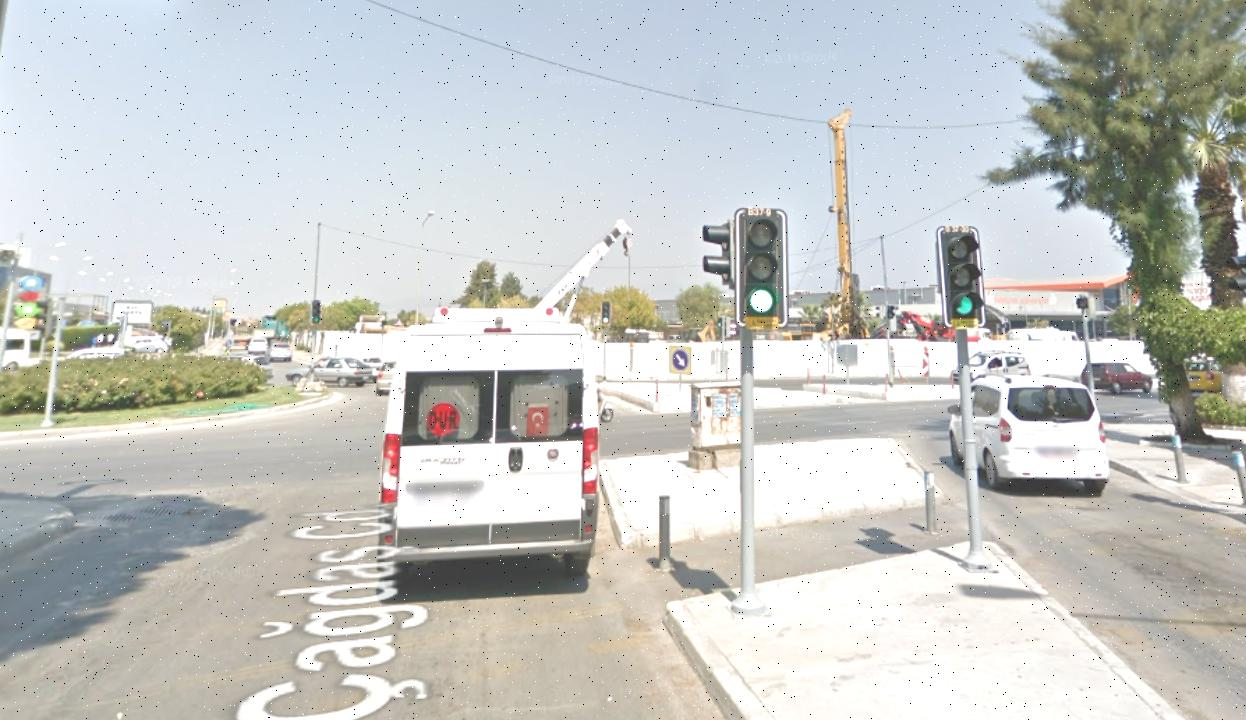greenlight: (742, 208, 783, 323), (941, 225, 985, 327), (313, 301, 322, 323), (602, 304, 610, 325)
